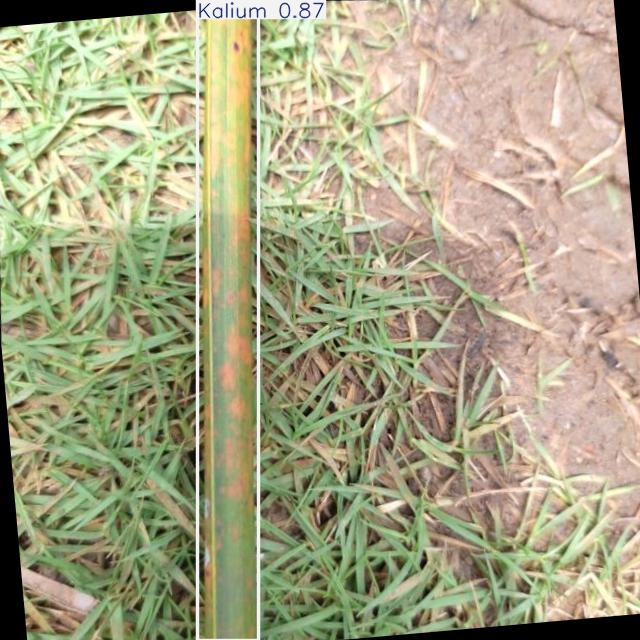Kalium: (198, 0, 258, 640)
